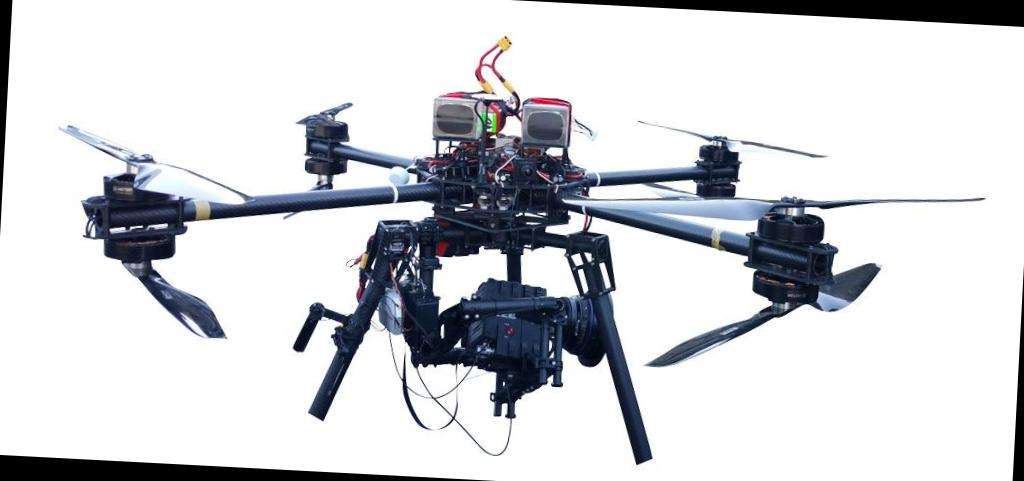drone: (14, 43, 1006, 465)
